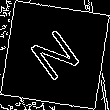N_SE: (24, 23, 86, 87)
